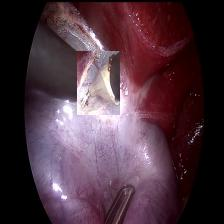Hook: (76, 50, 119, 114), (96, 180, 136, 224)
